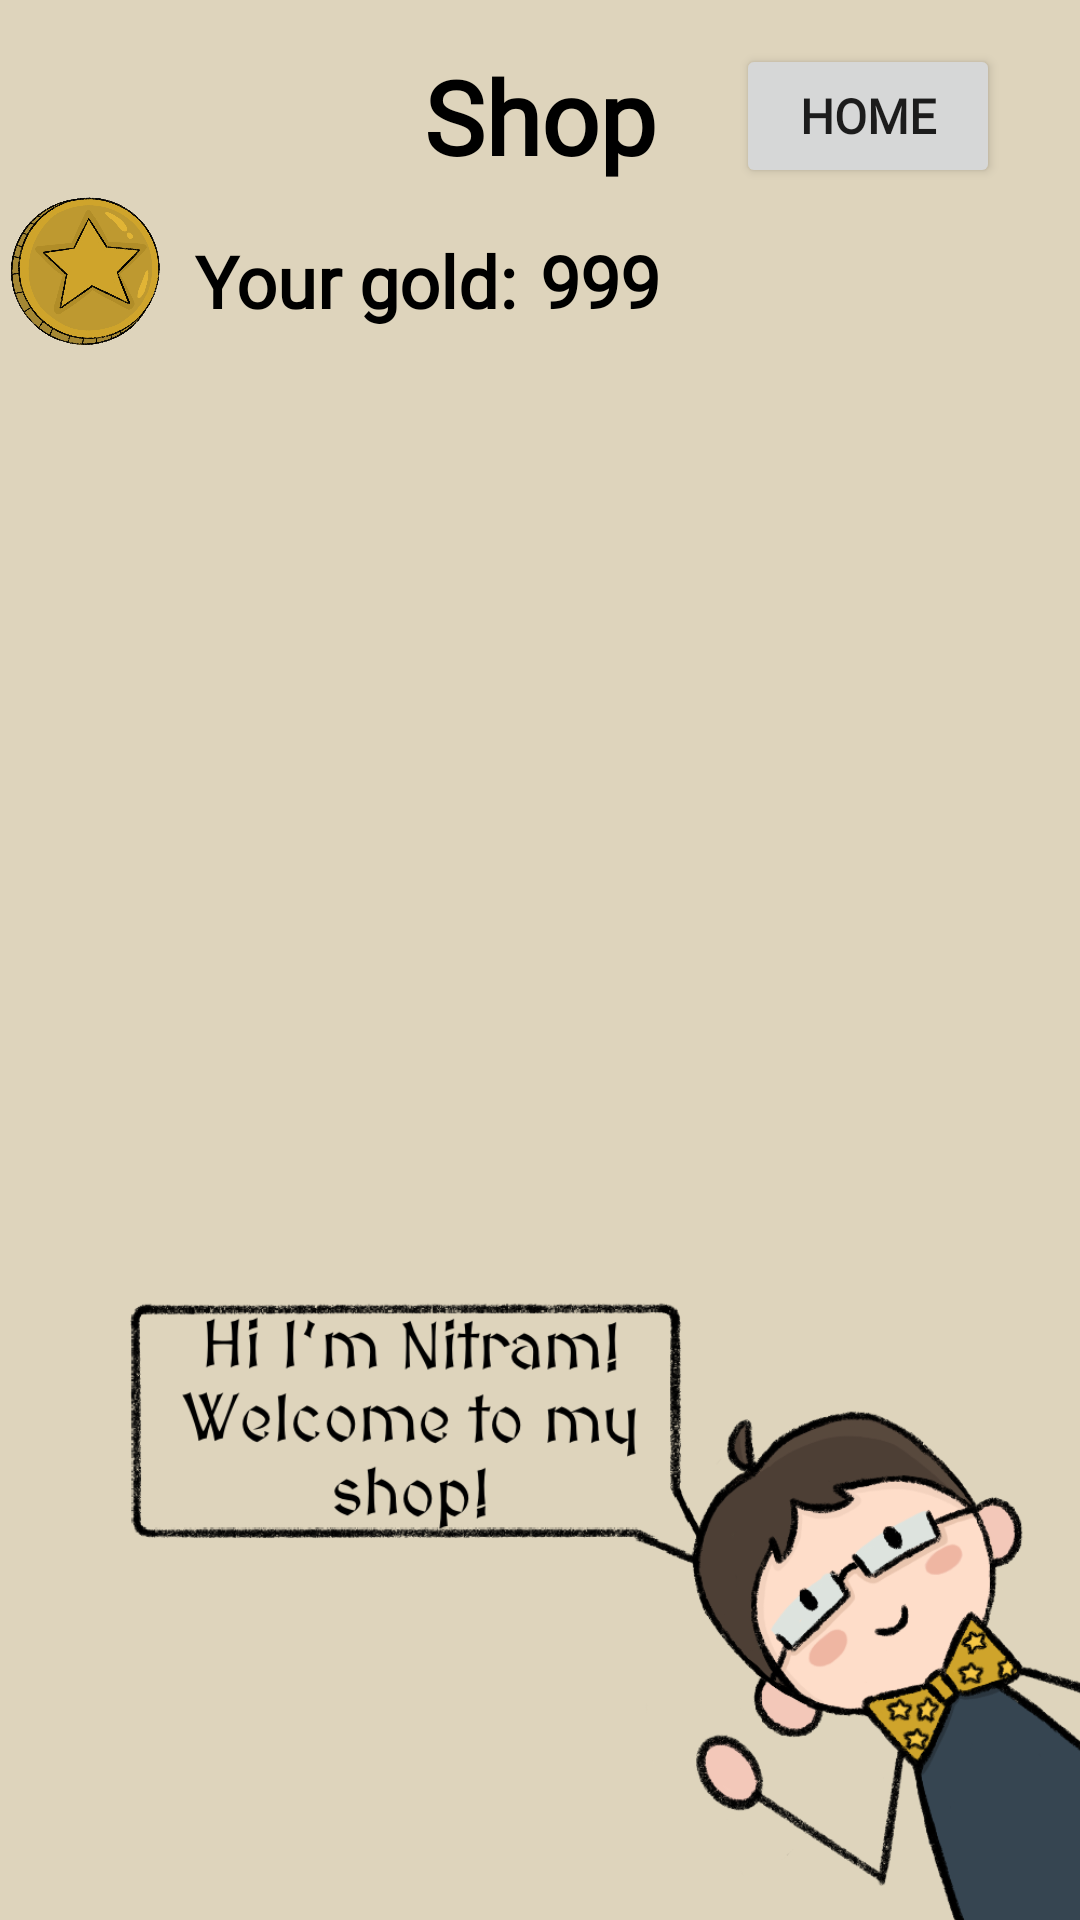

Icons on this 1080×1920 Android screen, each with the point to tap as [x,y]:
coin: [85,271]
